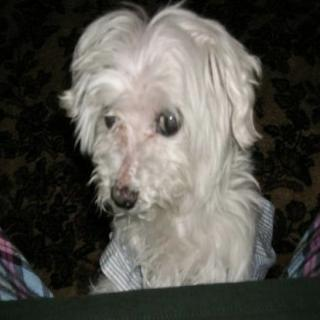dog: (59, 2, 264, 218)
nose: (103, 176, 144, 213)
